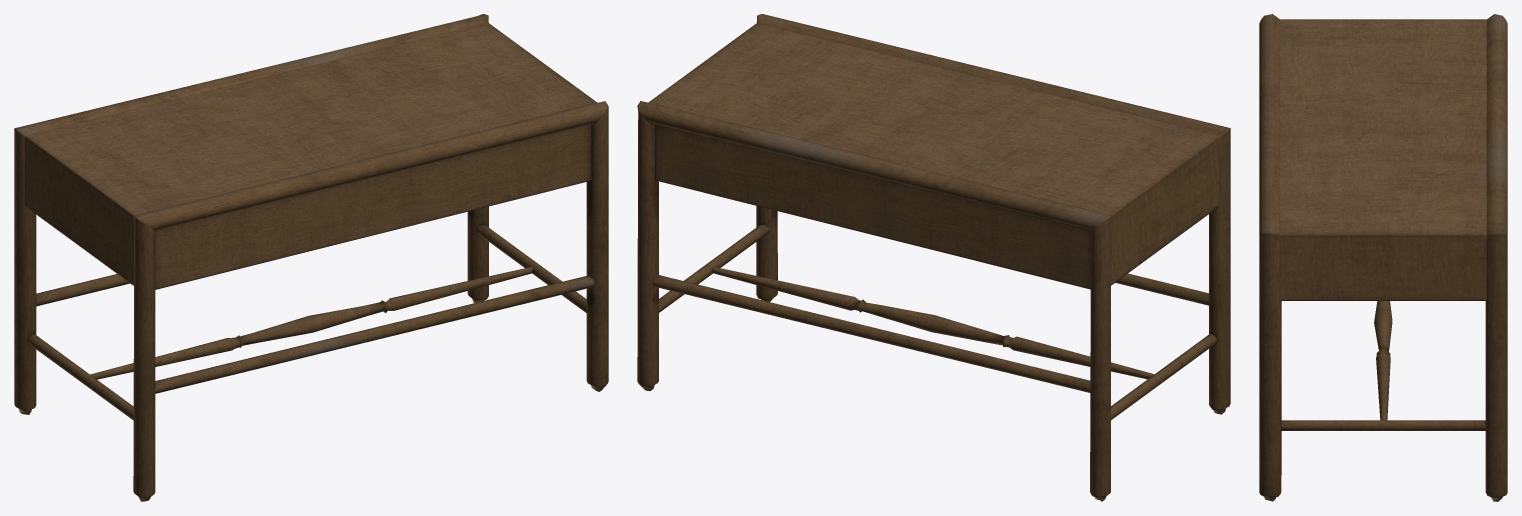
Rendered from small_wooden_table_01_lod2.glb.
The picture shows the model from 3 angles, left to right: view 1: azimuth 30°, elevation 25°; view 2: azimuth 150°, elevation 25°; view 3: azimuth 270°, elevation 25°; orthographic projection. The views are drawn at different scales.
Parts seen in each view (by area): view 1: small_wooden_table_01; view 2: small_wooden_table_01; view 3: small_wooden_table_01.
Boxes of the visible parts, box(x1,y1,x2,y2) form: small_wooden_table_01: box(14, 14, 608, 501); small_wooden_table_01: box(637, 14, 1230, 501); small_wooden_table_01: box(1259, 14, 1507, 501).
Size of the model in its own units: 0.9162 by 0.5331 by 0.44.
Materials: 1 (1 with a texture image).
